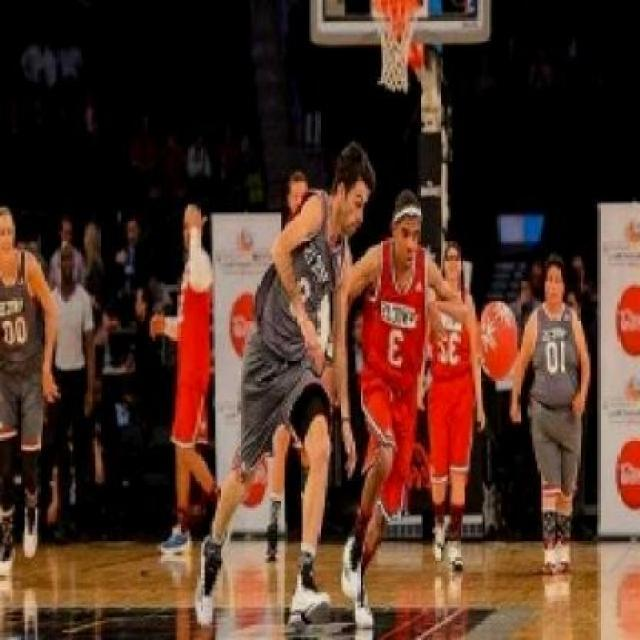Ball: (478, 300, 520, 380)
